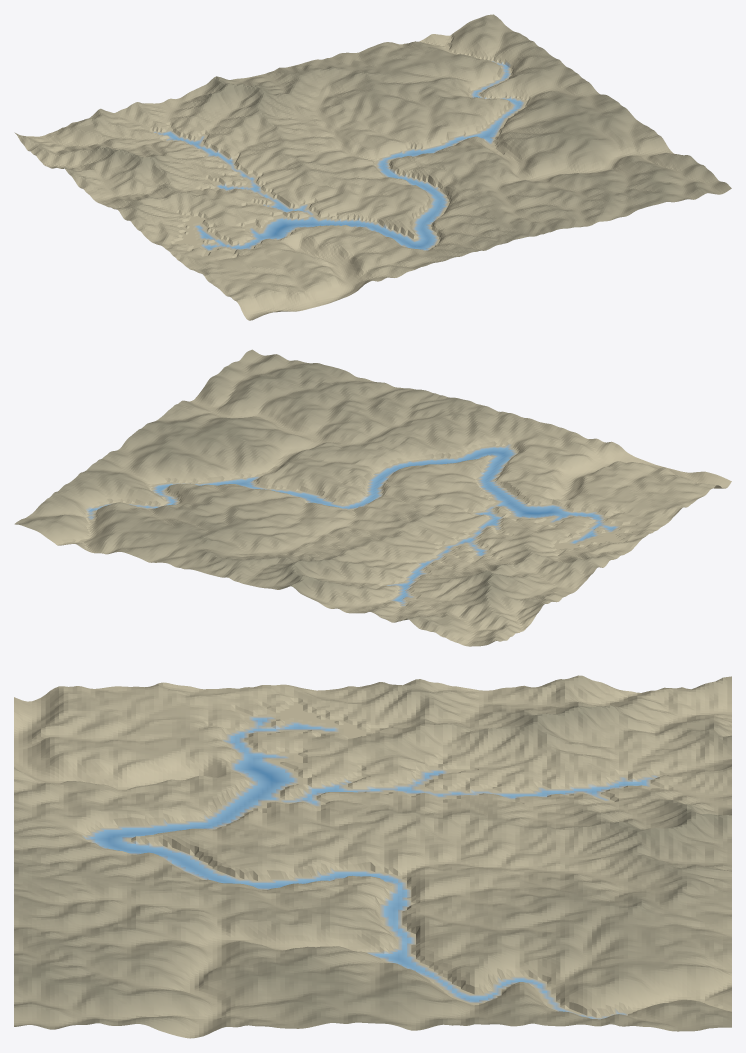
File: summersville_lake_wv.glb
3 views of the same model, one above another, from view 1: azimuth 30°, elevation 25°; view 2: azimuth 150°, elevation 25°; view 3: azimuth 270°, elevation 25° (orthographic). The views are drawn at different scales.
Visible parts, largest first — view 1: terrain, water; view 2: terrain, water; view 3: terrain, water.
Part boxes in pixels (box(x1,y1,x2,y2)): terrain: box(14, 14, 731, 320); water: box(163, 65, 521, 249); terrain: box(14, 349, 731, 646); water: box(89, 447, 615, 601); terrain: box(14, 675, 731, 1038); water: box(90, 718, 646, 1018).
Bounding box in the file's own units: 9554 × 469 × 8223.
